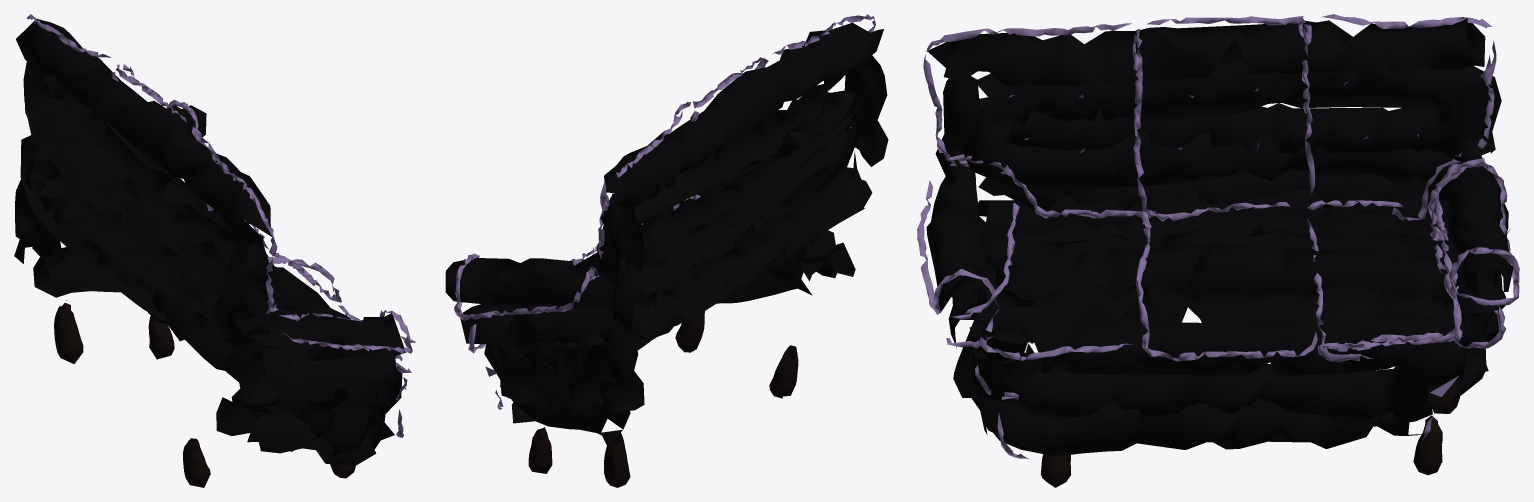
File: ikea_couch.fbx
The picture shows the model from 3 angles, left to right: view 1: azimuth 30°, elevation 25°; view 2: azimuth 150°, elevation 25°; view 3: azimuth 270°, elevation 25°; orthographic projection. The views are drawn at different scales.
Visible parts, largest first — view 1: Untitled_16_0_Wire_geo; view 2: Untitled_16_0_Wire_geo; view 3: Untitled_16_0_Wire_geo.
Part boxes in pixels (<box>): Untitled_16_0_Wire_geo: <box>14,14,415,487</box>; Untitled_16_0_Wire_geo: <box>445,14,888,487</box>; Untitled_16_0_Wire_geo: <box>917,14,1519,487</box>.
Size of the model in its own units: 0.9036 by 1.46 by 1.95.
